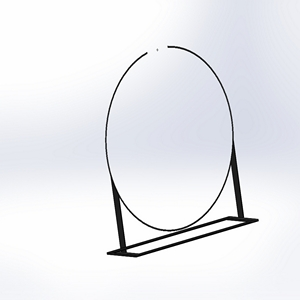circle: (102, 45, 258, 258)
